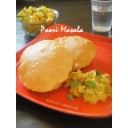poori: (20, 39, 73, 91), (54, 34, 95, 68)
